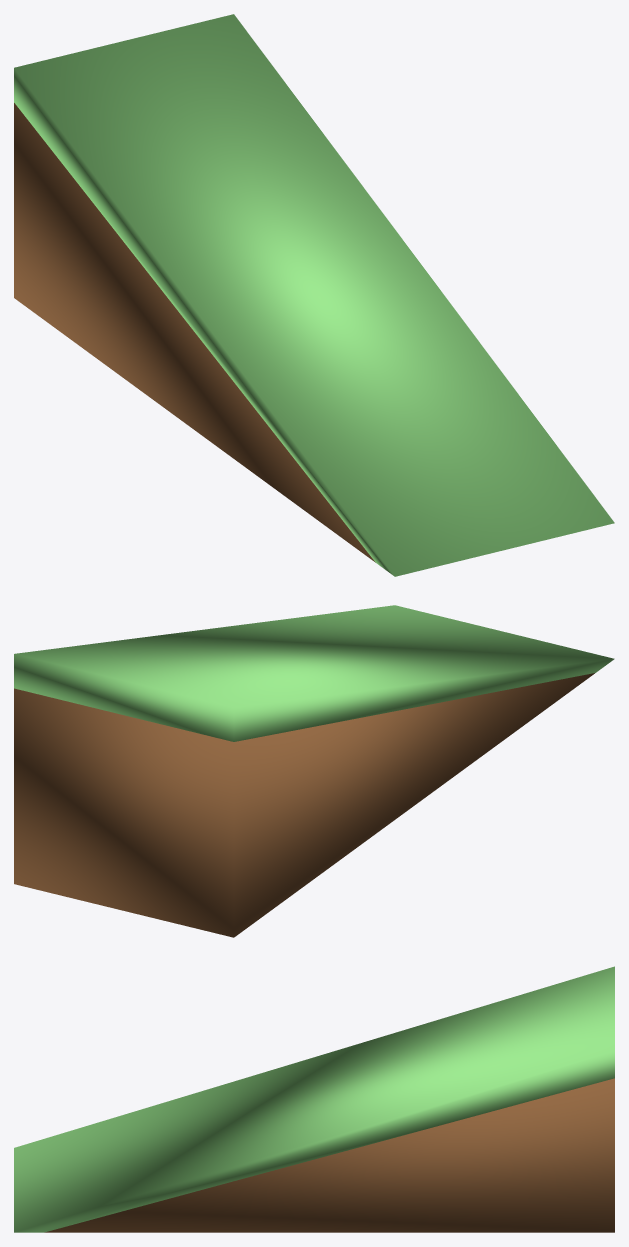
File: Ramp - 1x3.glb
3 renders of one model, top to bottom at view 1: azimuth 30°, elevation 25°; view 2: azimuth 150°, elevation 25°; view 3: azimuth 270°, elevation 25°, orthographic. The views are drawn at different scales.
Parts seen in each view (by area): view 1: Ramp 1x3; view 2: Ramp 1x3; view 3: Ramp 1x3.
Boxes of the visible parts, <box> form: Ramp 1x3: <box>14,14,614,576</box>; Ramp 1x3: <box>14,605,614,937</box>; Ramp 1x3: <box>14,966,614,1232</box>.
Bounding box in the file's own units: 2 × 2 × 6.
